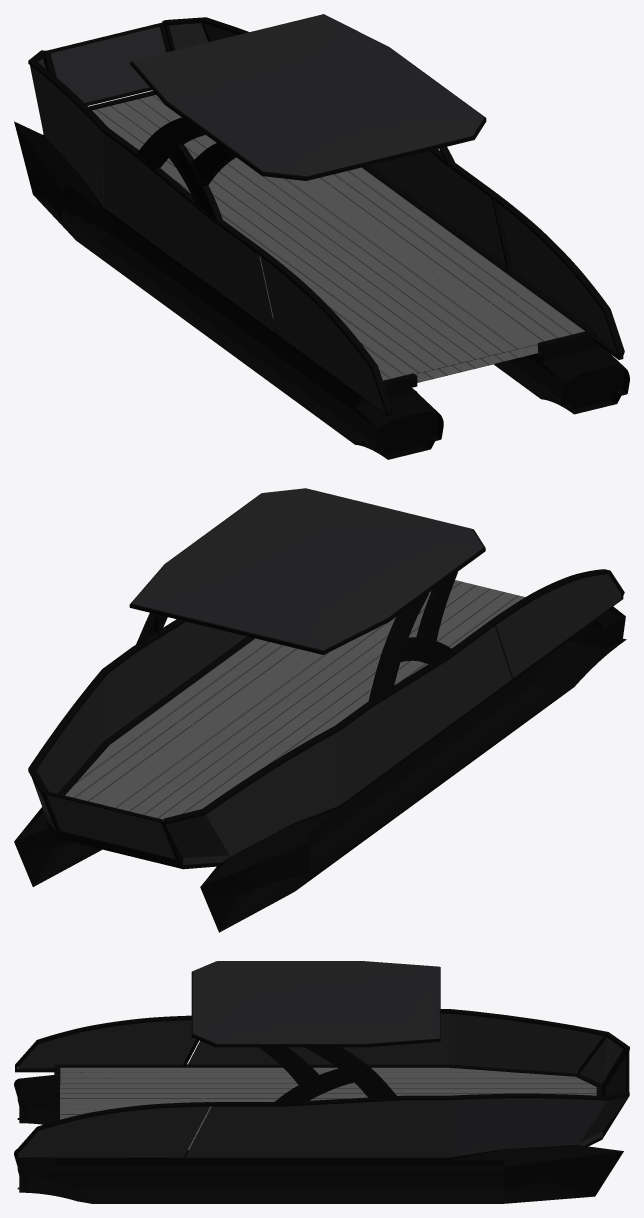
The model's file is new 12mmm.glb.
3 views of the same model, one above another, from view 1: azimuth 30°, elevation 25°; view 2: azimuth 150°, elevation 25°; view 3: azimuth 270°, elevation 25° (orthographic). The views are drawn at different scales.
Parts seen in each view (by area): view 1: Plane.025, Plane.027, Plane.016, Plane.018, Plane.003, Object.023, Object.024, Plane.023, Plane.006, Plane.017, Object.029, Object.014 (+19 smaller); view 2: Plane.027, Plane.025, Plane.016, Plane.017, Plane.003, Plane.018, Object.023, Object.024, Plane.023, Object.029, Plane.004, Object.041 (+17 smaller); view 3: Plane.027, Plane.025, Plane.003, Plane.004, Object.002, Object.003, Plane.006, Plane.017, Plane.018, Object.007, Plane.016, Object.019 (+20 smaller).
Boxes of the visible parts, x1,y1,x2,y2 form: Plane.025: (92,95,585,380); Plane.027: (132,14,484,176); Plane.016: (103,133,275,333); Plane.018: (260,256,385,413); Plane.003: (370,151,505,264); Object.023: (170,297,328,403); Object.024: (63,219,221,324); Plane.023: (50,26,166,102); Plane.006: (499,204,616,350); Plane.017: (30,65,103,206); Object.029: (278,376,443,454); Object.014: (362,165,597,355); Plane.027: (131,488,483,650); Plane.025: (65,580,525,820); Plane.016: (339,626,511,805); Plane.017: (206,731,339,856); Plane.003: (103,621,246,740); Plane.018: (496,574,621,678); Object.023: (365,712,523,817); Object.024: (265,790,415,896); Plane.023: (46,795,175,858); Object.029: (473,638,626,739); Plane.004: (36,679,103,793); Object.041: (200,835,309,902); Plane.027: (192,961,439,1044); Plane.025: (60,1067,596,1149); Plane.003: (185,1100,449,1157); Plane.004: (449,1098,607,1157); Object.002: (175,1160,339,1203); Object.003: (339,1160,503,1203); Plane.006: (18,1106,209,1157); Plane.017: (449,1013,603,1073); Plane.018: (18,1020,195,1068); Object.007: (14,1149,174,1203); Plane.016: (188,1013,448,1064); Object.019: (503,1151,623,1189).
Size of the model in its own units: 3.99 by 3.36 by 11.24.
Materials: 6 (1 with a texture image).
